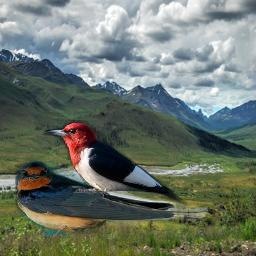Swallow: (11, 157, 208, 236)
Woodpecker: (41, 120, 187, 207)
